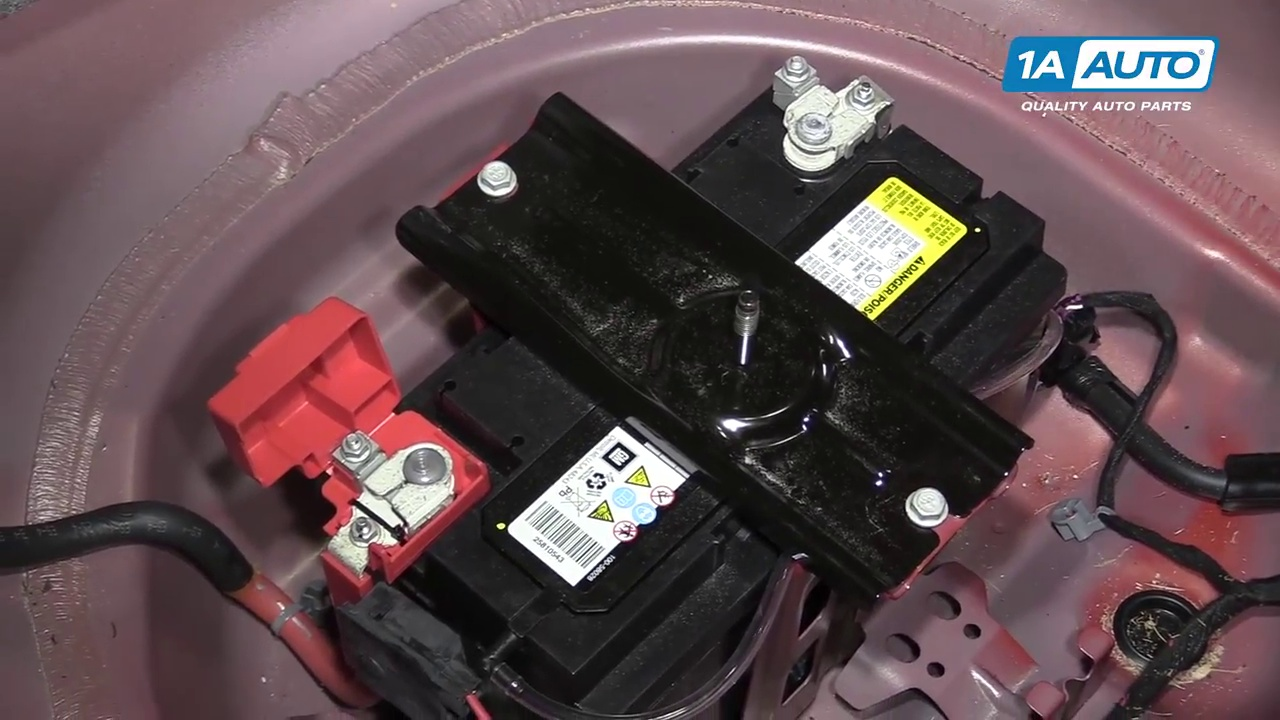battery: (352, 69, 1028, 651)
neg_connected: (756, 55, 907, 195)
pos_connected: (241, 344, 485, 610)
